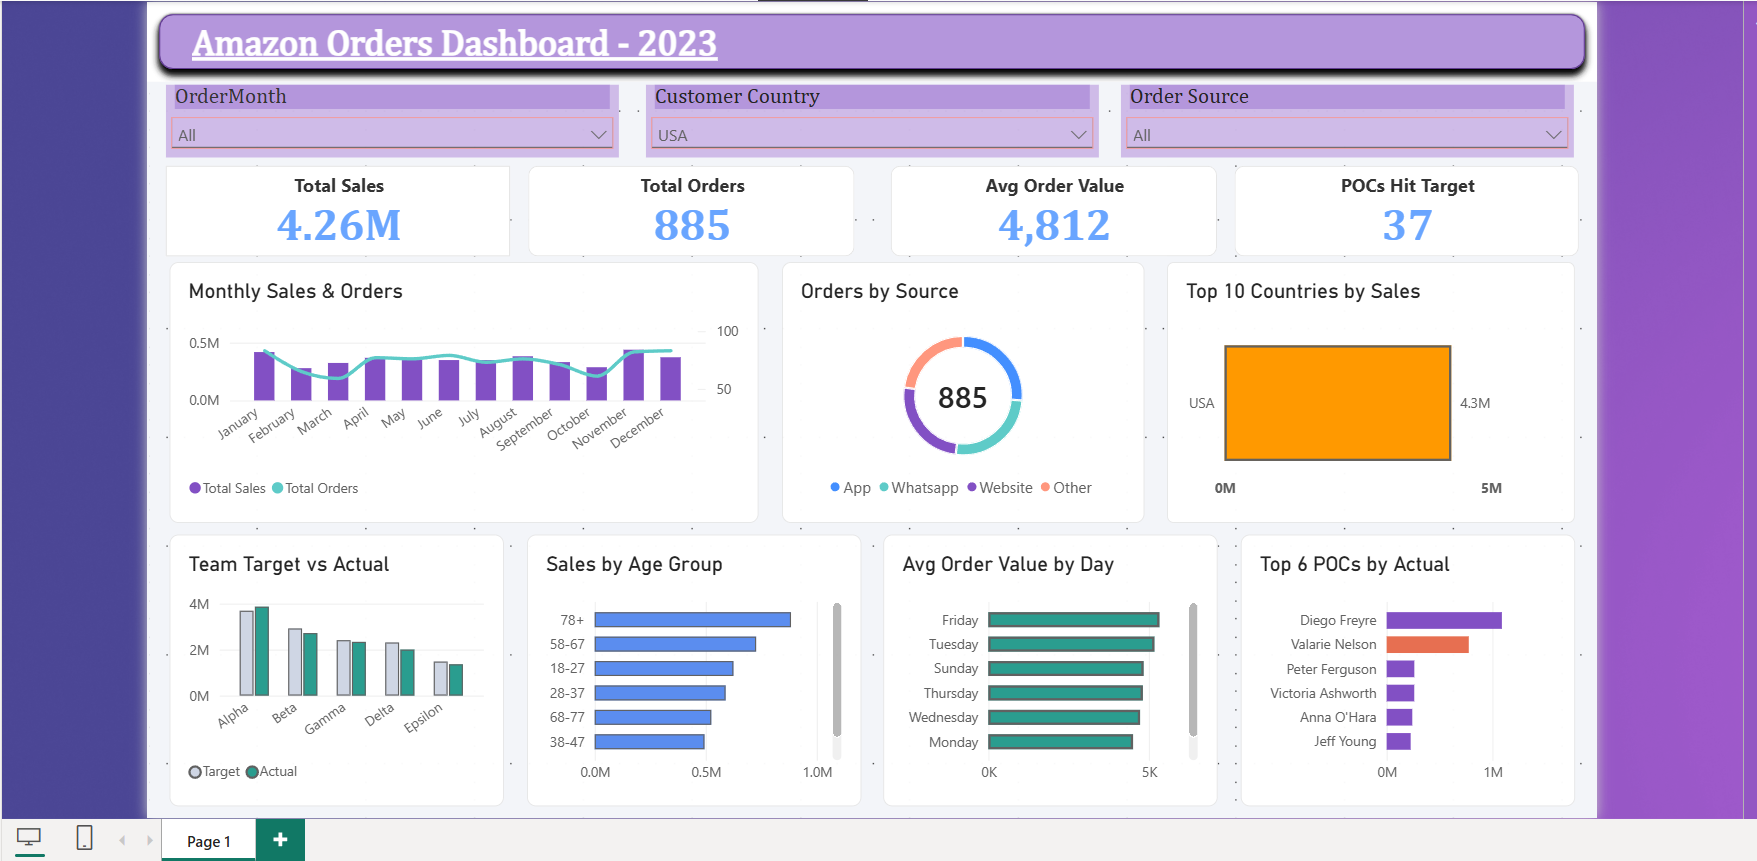

The page's visual inventory and layout, read from the dashboard file:
{"tool":"powerbi","page":{"name":"Page 1","canvas":[1280,720],"ordinal":0},"visuals":[{"type":"cardVisual","fields":{"Data":["Orders.Total Sales"]},"box":[16,144,304,80],"z":0},{"type":"cardVisual","fields":{"Data":["Orders.Total Orders"]},"box":[336,144,288,80],"z":1000},{"type":"cardVisual","fields":{"Data":["Orders.Avg Order Value"]},"box":[656,144,288,80],"z":2000},{"type":"cardVisual","fields":{"Data":["Sales Targets.POCs Hit Target"]},"box":[960,144,304,80],"z":3000},{"type":"lineClusteredColumnComboChart","title":"Monthly Sales & Orders","fields":{"Category":["Orders.OrderMonth"],"Y":["Orders.Total Sales"],"Y2":["Orders.Total Orders"]},"box":[20,230,520,230],"z":4000},{"type":"donutChart","title":"Orders by Source","fields":{"Category":["Orders.Order Source"],"Y":["Orders.Total Orders"]},"box":[560,230,320,230],"z":5000},{"type":"clusteredBarChart","title":"Top 10 Countries by Sales","fields":{"Category":["Orders.Customer Country"],"Y":["Orders.Total Sales"]},"box":[900,230,360,230],"z":6000},{"type":"clusteredColumnChart","title":"Team Target vs Actual","fields":{"Category":["Sales Targets.Sales Team"],"Y":["Sales Targets.Target","Sales Targets.Actual"]},"box":[20,470,295,240],"z":7000},{"type":"clusteredBarChart","title":"Sales by Age Group","fields":{"Category":["Orders.Age Group"],"Y":["Orders.Total Sales"]},"box":[335,470,295,240],"z":8000},{"type":"clusteredBarChart","title":"Avg Order Value by Day","fields":{"Category":["Orders.OrderDay"],"Y":["Orders.Avg Order Value"]},"box":[650,470,295,240],"z":9000},{"type":"clusteredBarChart","title":"Top 6 POCs by Actual","fields":{"Category":["Sales Targets.Sales POC"],"Y":["Sales Targets.Actual"]},"box":[965,470,295,240],"z":10000},{"type":"slicer","fields":{"Values":["Orders.OrderMonth"]},"box":[16,73,400,64],"z":11000},{"type":"slicer","fields":{"Values":["Orders.Customer Country"]},"box":[440,73,400,64],"z":12000},{"type":"slicer","fields":{"Values":["Orders.Order Source"]},"box":[860,73,400,64],"z":13000},{"type":"shape","box":[0,0,1280,70],"z":15001},{"type":"textbox","box":[40,20,700,40],"z":15501}]}

Visuals, with their boxes on the page's 1280x720 design canvas (x1, y1, x2, y2). These are canvas units, not pixel positions in the 1757x861 screenshot, which may show the page scaled, cropped or inside an application window:
cardVisual - Orders.Total Sales: bbox=[16, 144, 320, 224]
cardVisual - Orders.Total Orders: bbox=[336, 144, 624, 224]
cardVisual - Orders.Avg Order Value: bbox=[656, 144, 944, 224]
cardVisual - Sales Targets.POCs Hit Target: bbox=[960, 144, 1264, 224]
"Monthly Sales & Orders" lineClusteredColumnComboChart: bbox=[20, 230, 540, 460]
"Orders by Source" donutChart: bbox=[560, 230, 880, 460]
"Top 10 Countries by Sales" clusteredBarChart: bbox=[900, 230, 1260, 460]
"Team Target vs Actual" clusteredColumnChart: bbox=[20, 470, 315, 710]
"Sales by Age Group" clusteredBarChart: bbox=[335, 470, 630, 710]
"Avg Order Value by Day" clusteredBarChart: bbox=[650, 470, 945, 710]
"Top 6 POCs by Actual" clusteredBarChart: bbox=[965, 470, 1260, 710]
slicer - Orders.OrderMonth: bbox=[16, 73, 416, 137]
slicer - Orders.Customer Country: bbox=[440, 73, 840, 137]
slicer - Orders.Order Source: bbox=[860, 73, 1260, 137]
shape: bbox=[0, 0, 1280, 70]
textbox: bbox=[40, 20, 740, 60]
